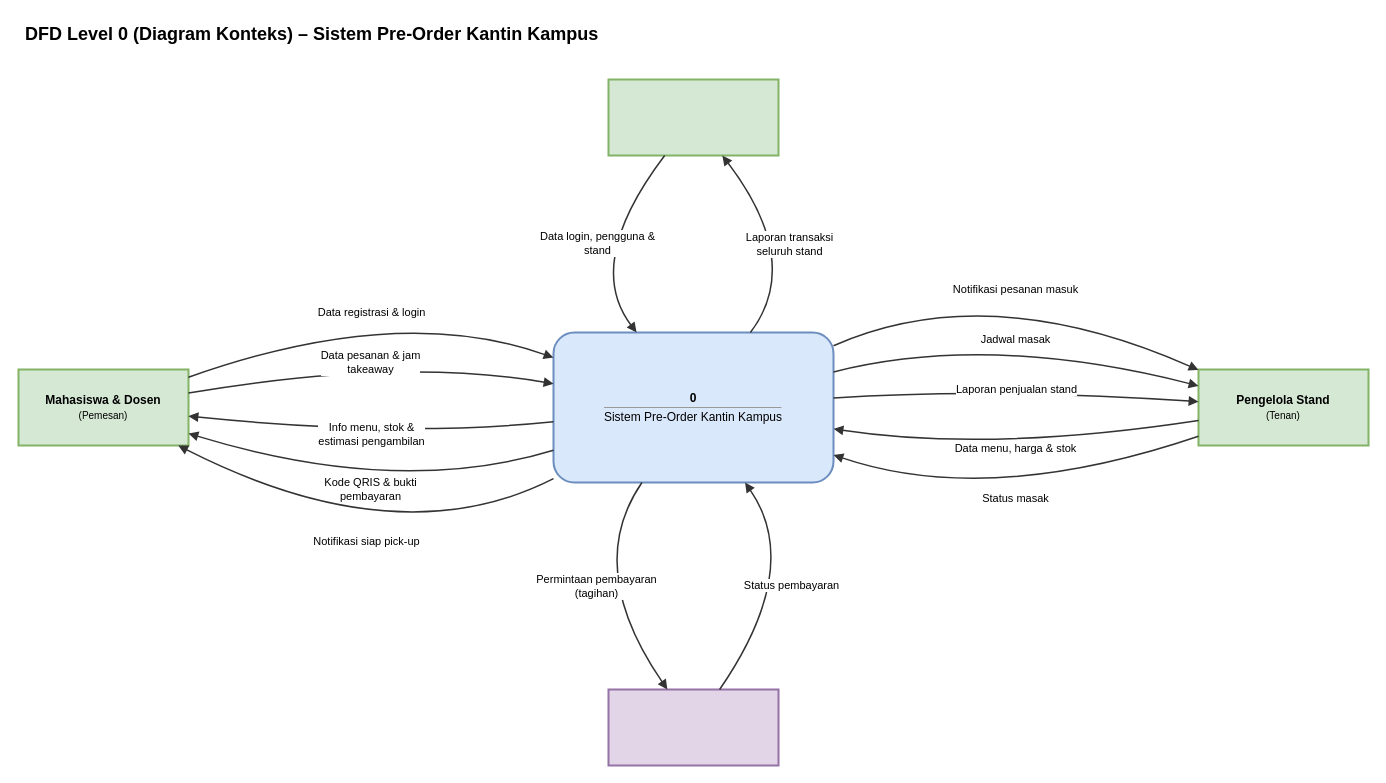
The diagram is 1386 pixels wide and 783 high, and some of its shapes have lost their labels. The shapes that lost their labels are listed below. From the top down, each one's centre as x and y in pixels, then its label:
At (693,117): "Pengelola Kantin (Admin Sistem)".
At (693,727): "Payment Gateway (QRIS / E-Wallet)".
